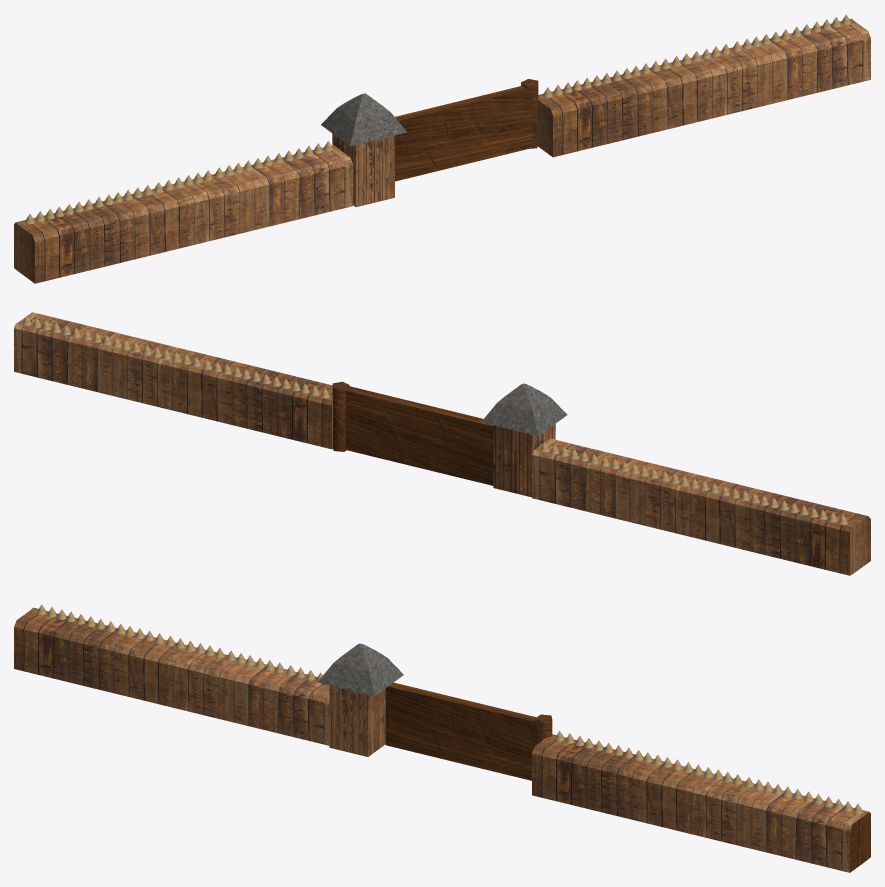
File: Muralla y puerta.FBX
The picture shows the model from 3 angles, top to bottom: view 1: azimuth 30°, elevation 25°; view 2: azimuth 150°, elevation 25°; view 3: azimuth 330°, elevation 25°; orthographic projection.
Visible parts, largest first — view 1: Box010, Box011, Box004, Box008, Box009; view 2: Box010, Box011, Box004, Box008, Box009, Cylinder002; view 3: Box011, Box010, Box004, Box008, Box009.
Boxes of the visible parts, <box> form: Box010: <box>14,145,352,283</box>; Box011: <box>537,18,870,157</box>; Box004: <box>395,85,532,181</box>; Box008: <box>332,133,394,207</box>; Box009: <box>321,93,406,146</box>; Box010: <box>532,438,870,575</box>; Box011: <box>14,312,332,449</box>; Box004: <box>345,386,493,485</box>; Box008: <box>493,424,555,497</box>; Box009: <box>481,383,567,436</box>; Cylinder002: <box>332,381,349,451</box>; Box011: <box>532,734,870,872</box>; Box010: <box>14,607,329,745</box>; Box004: <box>385,682,539,780</box>; Box008: <box>329,685,385,756</box>; Box009: <box>317,643,403,696</box>.
Size of the model in its own units: 1074 by 123 by 65.43.
